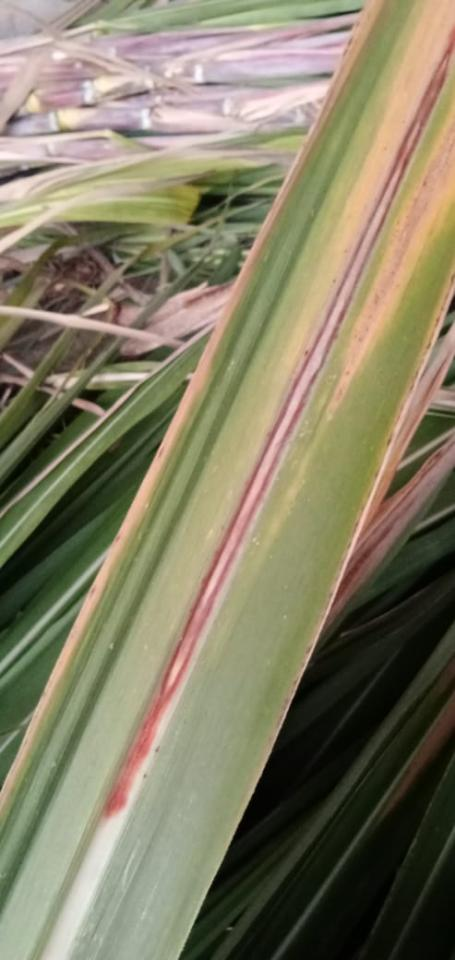RedRot: (103, 37, 454, 822)
Yellow: (329, 105, 454, 418), (327, 0, 454, 269)
